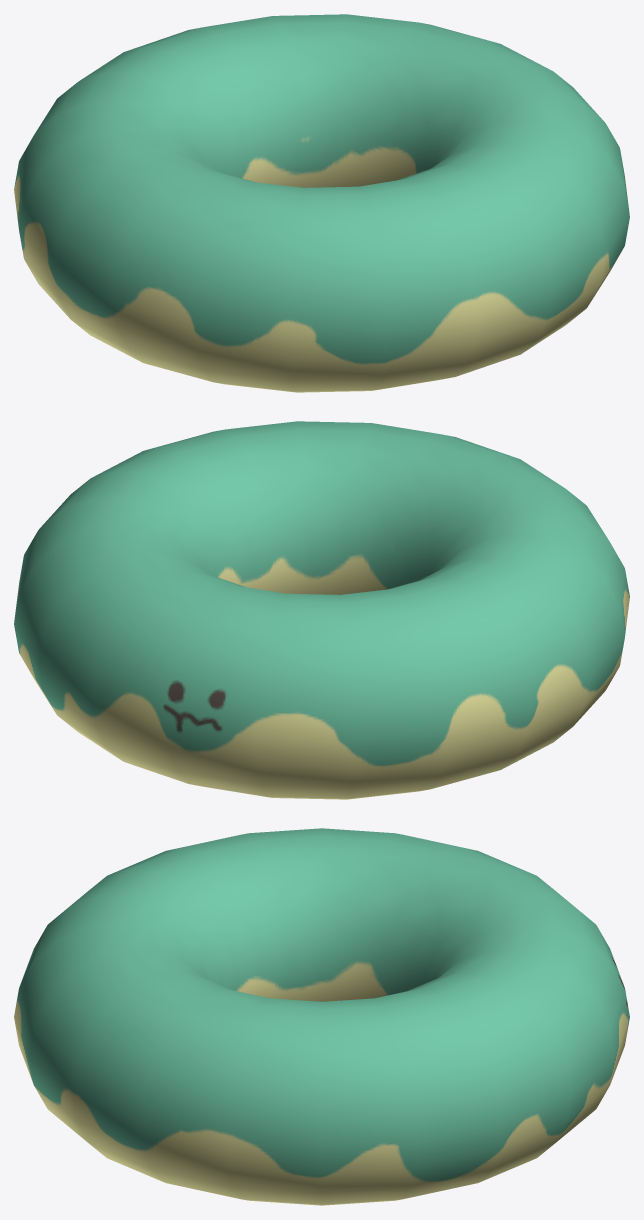
File: Oden_Donut.gltf
3 views of the same model, one above another, from view 1: azimuth 30°, elevation 25°; view 2: azimuth 150°, elevation 25°; view 3: azimuth 270°, elevation 25° (orthographic).
Parts seen in each view (by area): view 1: Oden_Donut; view 2: Oden_Donut; view 3: Oden_Donut.
Part boxes in pixels (x1,y1,x2,y2): Oden_Donut: (14,14,629,392); Oden_Donut: (14,421,629,799); Oden_Donut: (14,828,629,1205).
Size of the model in its own units: 2.1 by 0.7008 by 2.1.
Materials: 1 (1 with a texture image).
